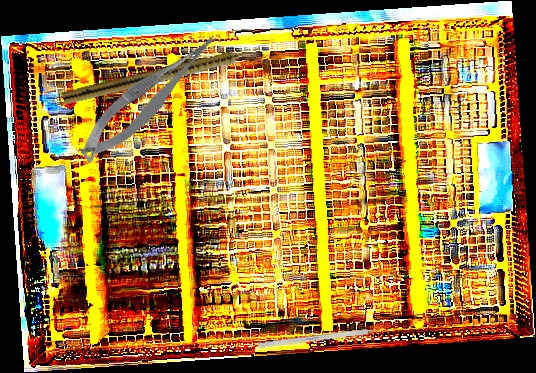Handpiece: (61, 44, 260, 109)
Hook Surgical: (257, 325, 395, 349)
Micro Scissor: (66, 27, 234, 168)
